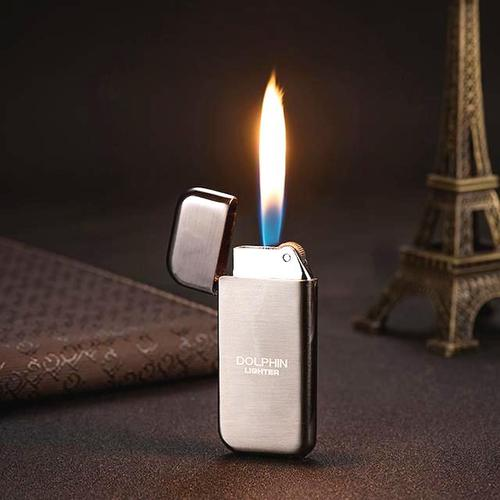fire: (236, 73, 316, 290)
